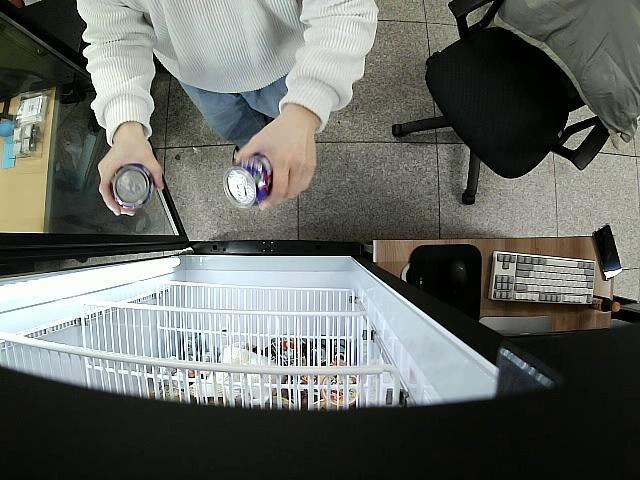14_welchsGrape: (222, 153, 274, 210), (106, 164, 156, 212)
